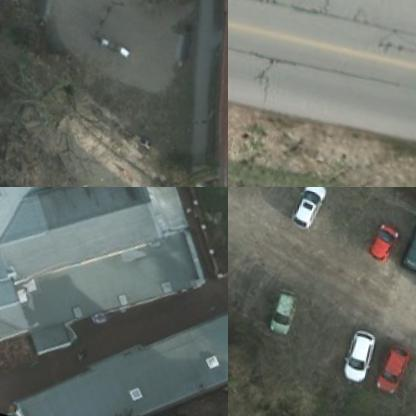car: (264, 278, 304, 336), (342, 322, 378, 383), (375, 330, 409, 393), (288, 187, 330, 231), (367, 214, 402, 259), (400, 211, 415, 274)
